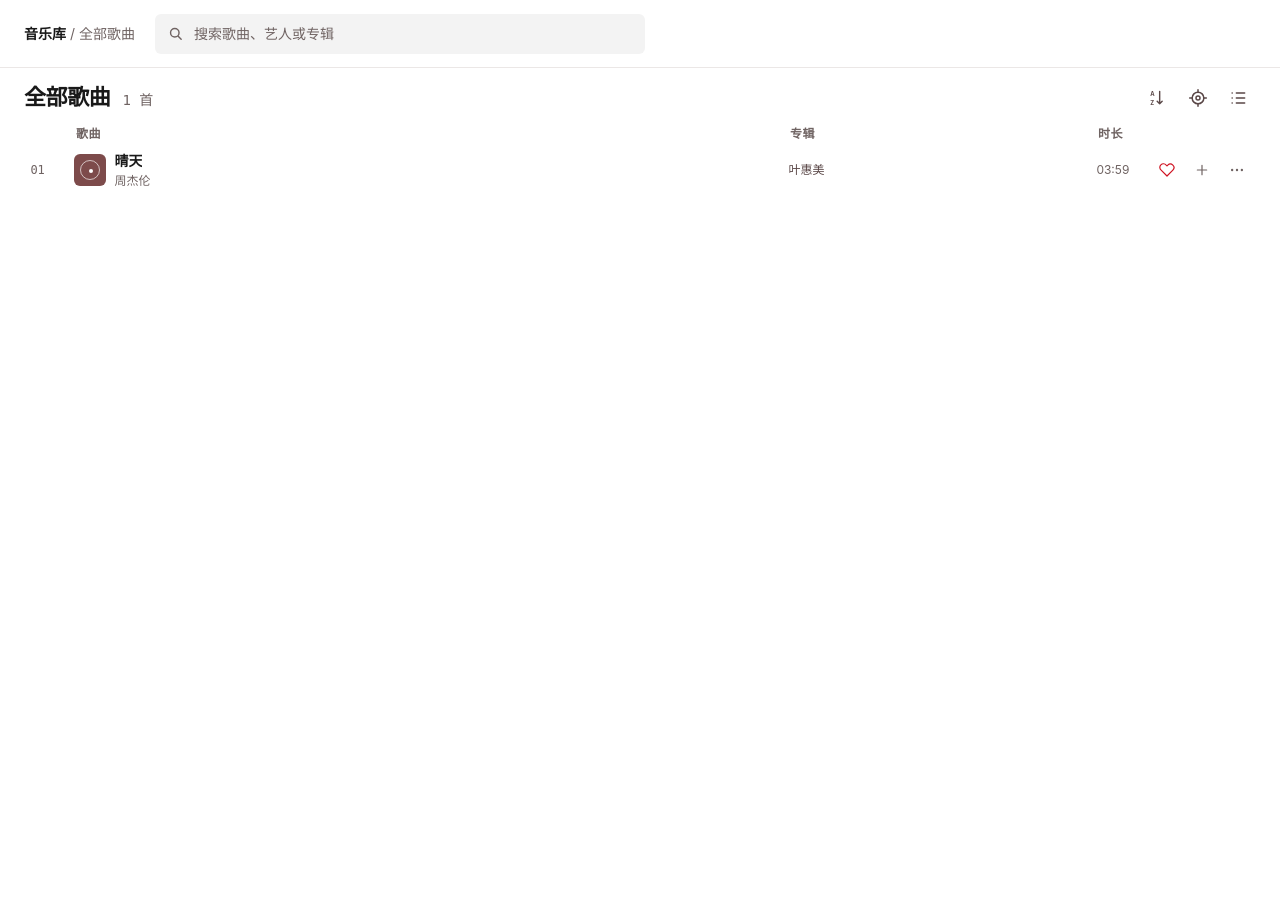
it: LibraryWorkspace — 定位正在播放的歌曲 (LIB-LOC) › voices 当前歌曲不在此列表中 for a playing song outside the list
Expected: the row with test id "song-row-song-1" is shown, [24,148,1256,192]
Click the button with test id "locate-song".
click(1198, 98)  # box [1180,80,1216,116]
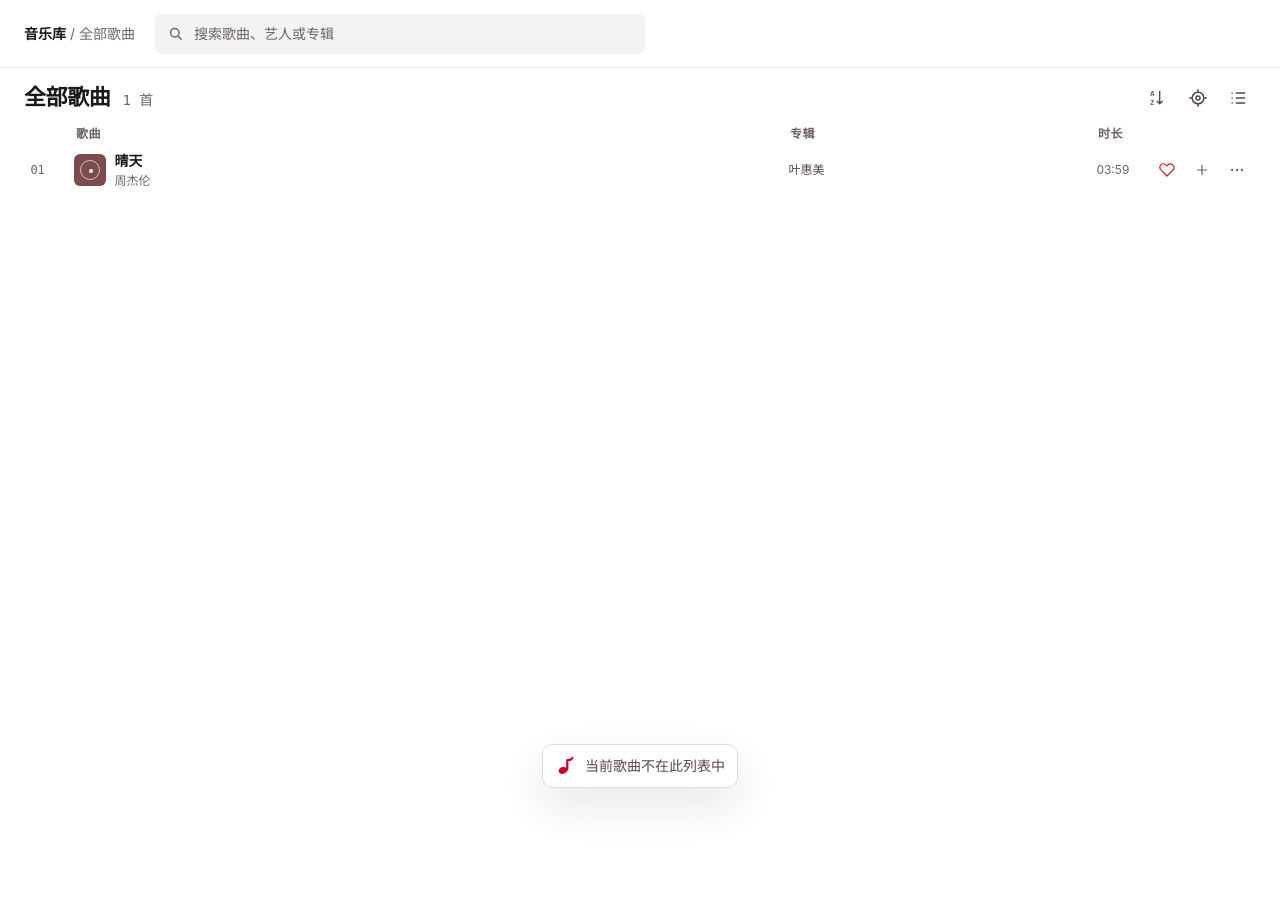
Result: the message with test id "toast" reads "当前歌曲不在此列表中" at [585,757,725,774]
